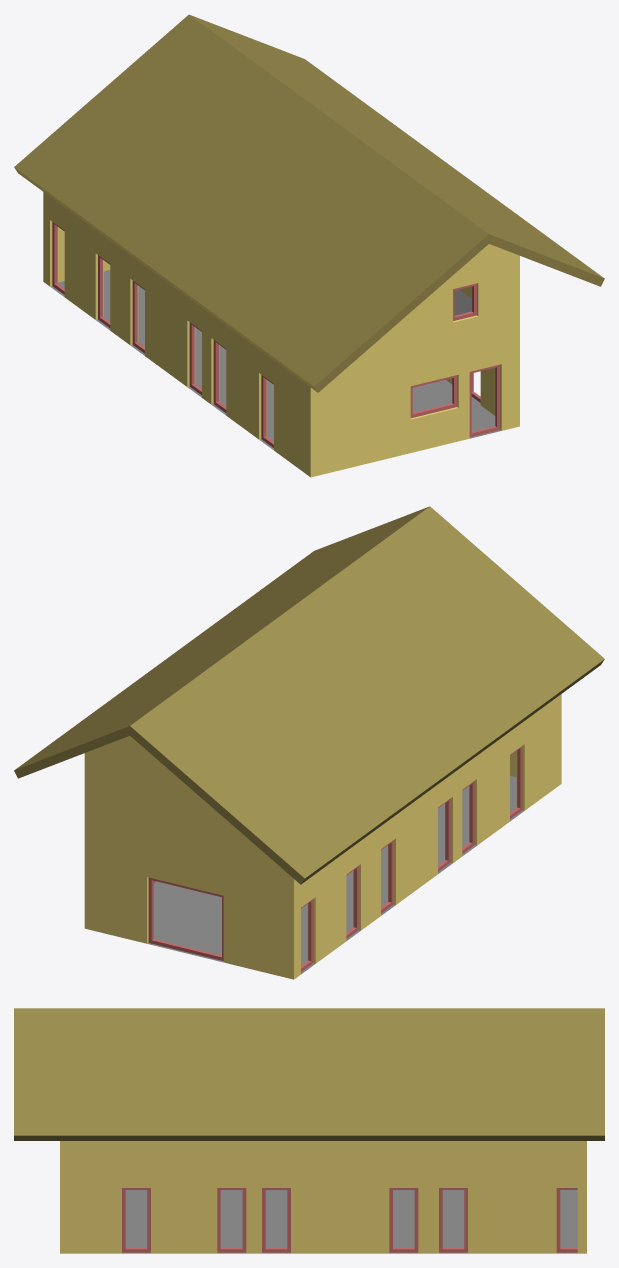
File: result.glb
The picture shows the model from 3 angles, top to bottom: view 1: azimuth 30°, elevation 25°; view 2: azimuth 150°, elevation 25°; view 3: azimuth 270°, elevation 25°; orthographic projection.
Parts seen in each view (by area): view 1: d308eec8-2c41-4818-9935-edfebf462b06__undefined (×2), 13cccef7-76ce-4d2f-8288-9141b5b3dd65__undefined, 89841bdd-b77b-4493-86e0-bbc36f3feb6e__Plane_28, 4793c8a7-4032-4815-96ae-bc914c66649b__Box, 0bf30490-8ff1-45f7-a88f-de56851080c2__Box_3; view 2: d308eec8-2c41-4818-9935-edfebf462b06__undefined (×2), 13cccef7-76ce-4d2f-8288-9141b5b3dd65__undefined, 89841bdd-b77b-4493-86e0-bbc36f3feb6e__Plane_28, 21d3f137-cc82-4f57-b40b-67beedb2d6eb__Box_9; view 3: d308eec8-2c41-4818-9935-edfebf462b06__undefined, 13cccef7-76ce-4d2f-8288-9141b5b3dd65__undefined, 89841bdd-b77b-4493-86e0-bbc36f3feb6e__Plane_28, e388bc36-7b04-4aa8-91f0-d5f5908d05d9__Box_51, 69bbe34b-dca0-4c2c-b197-d0ea4de1f841__Box_57, ef55def9-edfb-46d4-92a4-334ae1549c6f__Box_48, 460267f1-e981-4d62-94a1-4cd372e1ef37__Box_54, d422559c-2295-486c-aa01-e12df600dfec__Box_60, e7dfa2ea-8334-4aec-bca0-e7bd4ea344ae__Box_63.
Boxes of the visible parts, x1,y1,x2,y2 form: d308eec8-2c41-4818-9935-edfebf462b06__undefined (×2): (14,14,604,392); 13cccef7-76ce-4d2f-8288-9141b5b3dd65__undefined: (43,192,519,477); 89841bdd-b77b-4493-86e0-bbc36f3feb6e__Plane_28: (50,270,501,450); 4793c8a7-4032-4815-96ae-bc914c66649b__Box: (469,364,500,437); 0bf30490-8ff1-45f7-a88f-de56851080c2__Box_3: (410,375,457,418); d308eec8-2c41-4818-9935-edfebf462b06__undefined (×2): (14,506,604,884); 13cccef7-76ce-4d2f-8288-9141b5b3dd65__undefined: (84,694,561,979); 89841bdd-b77b-4493-86e0-bbc36f3feb6e__Plane_28: (147,776,523,974); 21d3f137-cc82-4f57-b40b-67beedb2d6eb__Box_9: (148,877,223,960); d308eec8-2c41-4818-9935-edfebf462b06__undefined: (14,1008,604,1140); 13cccef7-76ce-4d2f-8288-9141b5b3dd65__undefined: (60,1141,586,1253); 89841bdd-b77b-4493-86e0-bbc36f3feb6e__Plane_28: (122,1190,577,1253); e388bc36-7b04-4aa8-91f0-d5f5908d05d9__Box_51: (217,1188,246,1252); 69bbe34b-dca0-4c2c-b197-d0ea4de1f841__Box_57: (389,1188,418,1252); ef55def9-edfb-46d4-92a4-334ae1549c6f__Box_48: (122,1188,150,1252); 460267f1-e981-4d62-94a1-4cd372e1ef37__Box_54: (262,1188,290,1252); d422559c-2295-486c-aa01-e12df600dfec__Box_60: (439,1188,467,1252); e7dfa2ea-8334-4aec-bca0-e7bd4ea344ae__Box_63: (556,1188,577,1252).
Size of the model in its own units: 912 by 667 by 1629.
